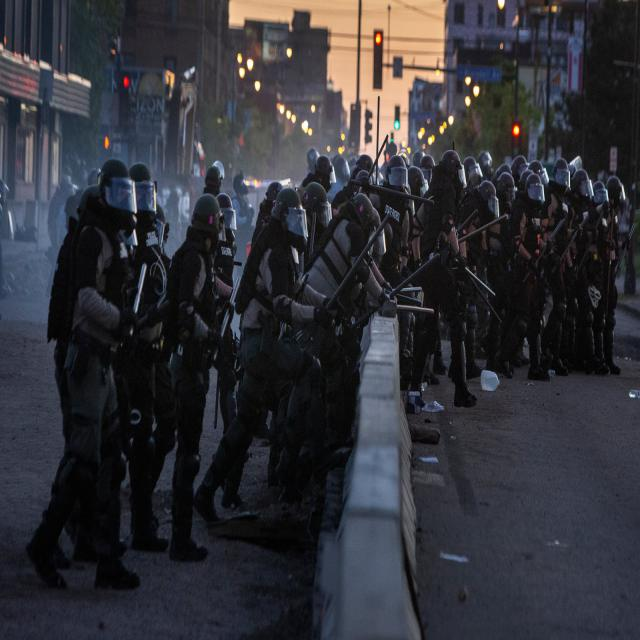police: (314, 142, 484, 427), (41, 137, 139, 617), (133, 158, 232, 631), (212, 172, 321, 541), (494, 142, 640, 390)
